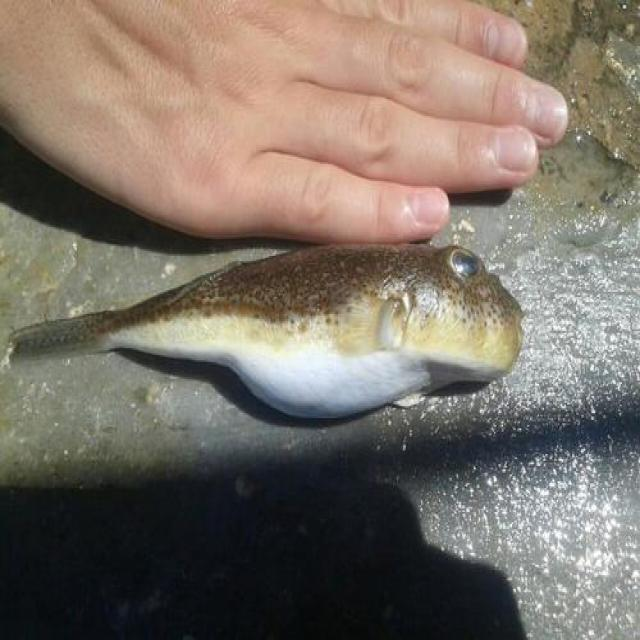Balik: (11, 246, 522, 418)
